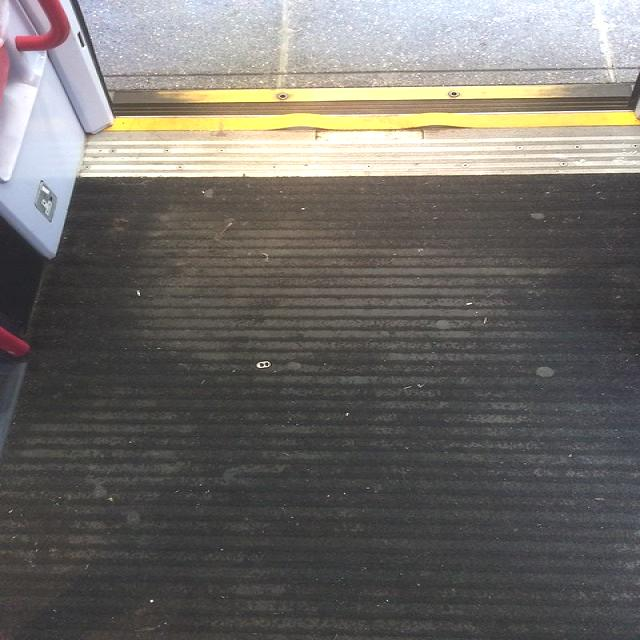Trash: (534, 361, 554, 379), (256, 360, 274, 370)
